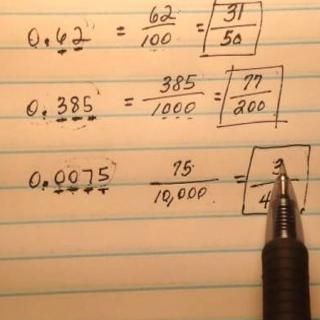.: (39, 106, 49, 122), (43, 35, 50, 51), (41, 178, 50, 190)
0: (24, 24, 42, 48), (20, 96, 40, 117), (24, 170, 42, 189), (53, 169, 67, 189), (67, 167, 79, 186), (161, 29, 172, 46), (148, 32, 161, 46), (232, 34, 244, 49)
1: (138, 34, 150, 47), (237, 2, 244, 21)
2: (72, 24, 94, 44), (160, 3, 178, 22)
3: (54, 94, 69, 115), (160, 72, 172, 93), (225, 5, 237, 24)
4: (53, 24, 68, 47)
5: (82, 92, 96, 114), (97, 163, 111, 185), (219, 28, 233, 46), (184, 72, 197, 91)
6: (144, 3, 160, 24)
7: (80, 164, 93, 186), (243, 71, 253, 93), (252, 74, 265, 89)
8: (171, 73, 185, 93), (69, 92, 80, 116)
